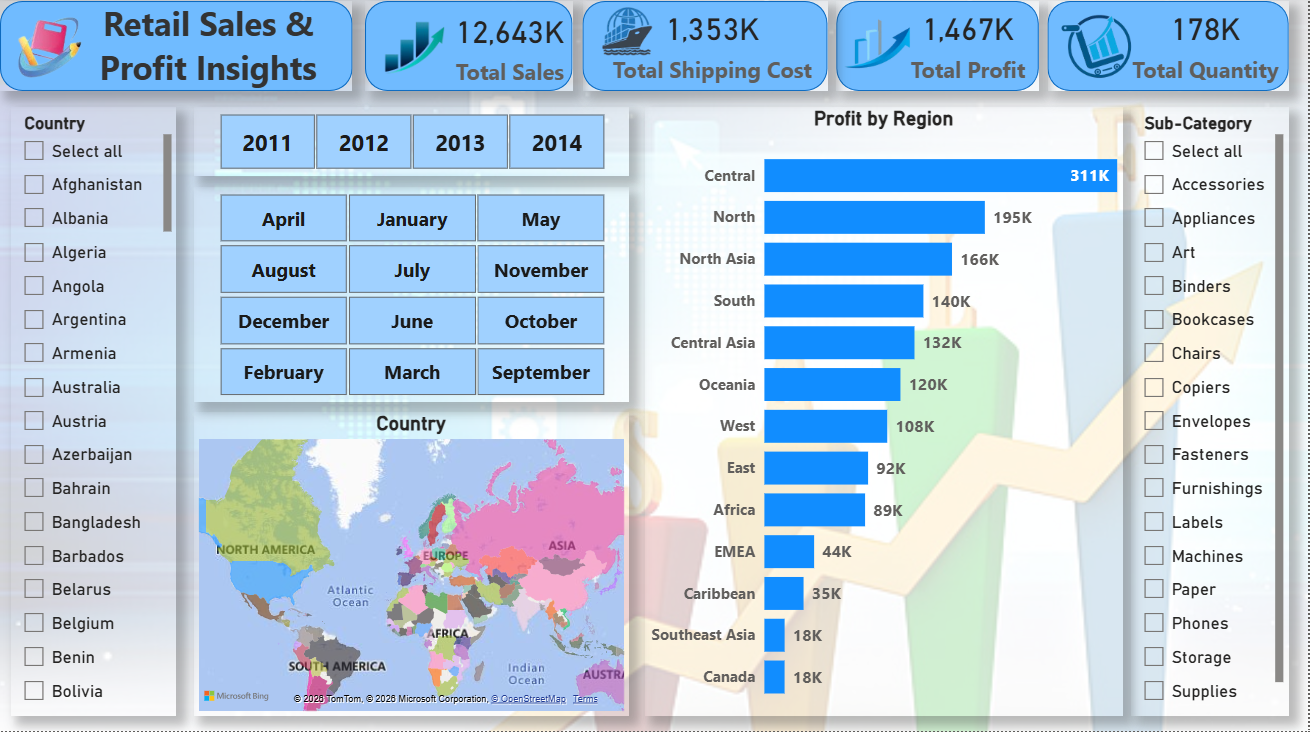

Layout of this report page (visuals, bound fields, positions):
{"tool":"powerbi","page":{"name":"Profit","canvas":[1280,720],"ordinal":1},"visuals":[{"type":"shape","box":[0,4.9,344.8,88],"z":0},{"type":"textbox","box":[62.4,4.9,282.5,92.9],"z":1000},{"type":"image","box":[0,0,97.8,92.9],"z":2000},{"type":"shape","box":[357.1,4.9,203,88],"z":3000},{"type":"shape","box":[818.1,4.9,198.1,88],"z":4000},{"type":"shape","box":[1024.7,4.9,236,88],"z":5000},{"type":"card","fields":{"Values":["superstore_dataset2011-2015.Total Sales"]},"box":[436.6,2.4,124.7,90.5],"z":6000},{"type":"card","fields":{"Values":["superstore_dataset2011-2015.Total Quantity"]},"box":[1098.1,0,162.6,90.5],"z":7000},{"type":"card","fields":{"Values":["superstore_dataset2011-2015.Total Profit"]},"box":[869.4,0,155.3,90.5],"z":8000},{"type":"image","box":[818.1,0,86.8,97.8],"z":9000},{"type":"image","box":[1024.7,0,101.5,97.8],"z":10000},{"type":"image","box":[353.4,0,105.2,97.8],"z":11000},{"type":"slicer","fields":{"Values":["superstore_dataset2011-2015.Country"]},"box":[11,108.8,161.4,595.5],"z":12000},{"type":"slicer","fields":{"Values":["superstore_dataset2011-2015.Sub-Category"]},"box":[1106.7,108.8,154.1,595.5],"z":13000},{"type":"shape","box":[569.8,4.9,239.7,88],"z":18000},{"type":"card","fields":{"Values":["superstore_dataset2011-2015.Total Shipping Cost"]},"box":[584.5,0,225,90.5],"z":19000},{"type":"image","box":[578.4,0,72.1,72.1],"z":20000},{"type":"filledMap","title":"Country","fields":{"Category":["superstore_dataset2011-2015.Country"],"Series":["superstore_dataset2011-2015.Sales"]},"box":[189.5,407.2,425.5,297.1],"z":20001},{"type":"clusteredBarChart","title":"Profit by Region","fields":{"Category":["superstore_dataset2011-2015.Region"],"Y":["Sum(superstore_dataset2011-2015.Profit)"]},"box":[631,108.8,467.1,595.5],"z":20002},{"type":"slicer","fields":{"Values":["superstore_dataset2011-2015.Year"]},"box":[189.5,108.8,425.5,67.3],"z":20003},{"type":"slicer","fields":{"Values":["superstore_dataset2011-2015.Month Name"]},"box":[189.5,187.1,425.5,210.3],"z":20004}]}

Visuals, with their boxes in screenshot pixels (x1, y1, x2, y2), scaled from the page's 1280x720 canvas onto the 1310x732 screenshot:
shape: l=0, t=5, r=353, b=94
textbox: l=64, t=5, r=353, b=99
image: l=0, t=0, r=100, b=94
shape: l=365, t=5, r=573, b=94
shape: l=837, t=5, r=1040, b=94
shape: l=1049, t=5, r=1290, b=94
card - superstore_dataset2011-2015.Total Sales: l=447, t=2, r=574, b=94
card - superstore_dataset2011-2015.Total Quantity: l=1124, t=0, r=1290, b=92
card - superstore_dataset2011-2015.Total Profit: l=890, t=0, r=1049, b=92
image: l=837, t=0, r=926, b=99
image: l=1049, t=0, r=1153, b=99
image: l=362, t=0, r=469, b=99
slicer - superstore_dataset2011-2015.Country: l=11, t=111, r=176, b=716
slicer - superstore_dataset2011-2015.Sub-Category: l=1133, t=111, r=1290, b=716
shape: l=583, t=5, r=828, b=94
card - superstore_dataset2011-2015.Total Shipping Cost: l=598, t=0, r=828, b=92
image: l=592, t=0, r=666, b=73
"Country" filledMap: l=194, t=414, r=629, b=716
"Profit by Region" clusteredBarChart: l=646, t=111, r=1124, b=716
slicer - superstore_dataset2011-2015.Year: l=194, t=111, r=629, b=179
slicer - superstore_dataset2011-2015.Month Name: l=194, t=190, r=629, b=404
